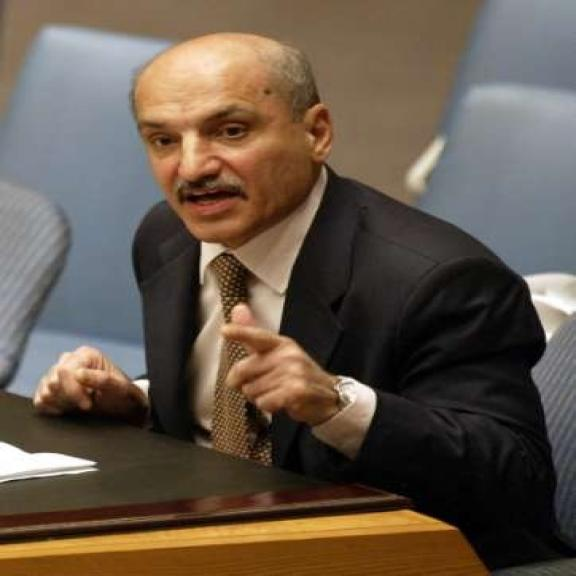face: (138, 78, 337, 245)
